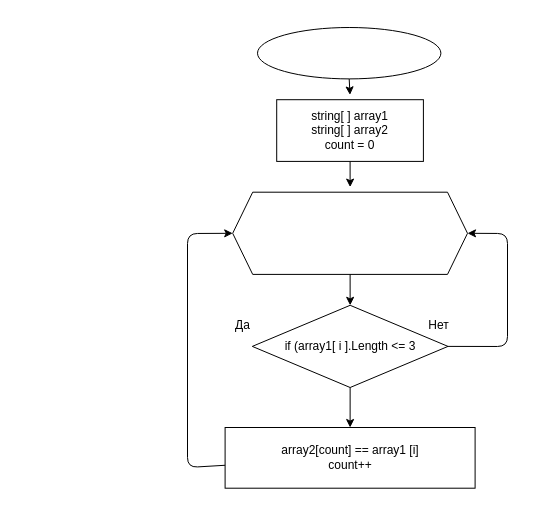
Image size: 533x506. Some labels were removed from this diagram. Each missing label, with the centre of its shape:
"CreateNewArray" goes at point 348,52.
"for (int i = 0; i < array1.Length; i++)" goes at point 350,232.
